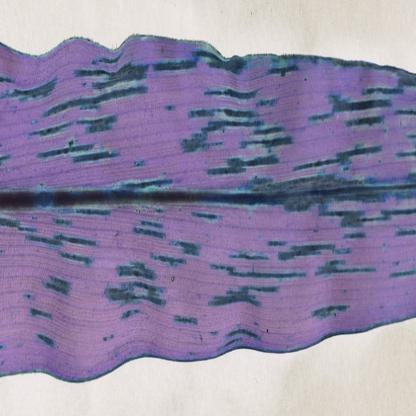Corn leaf blight: (0, 28, 416, 356)
